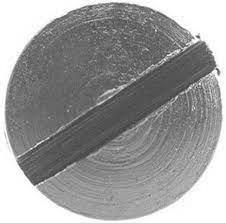screw: (7, 3, 222, 215)
